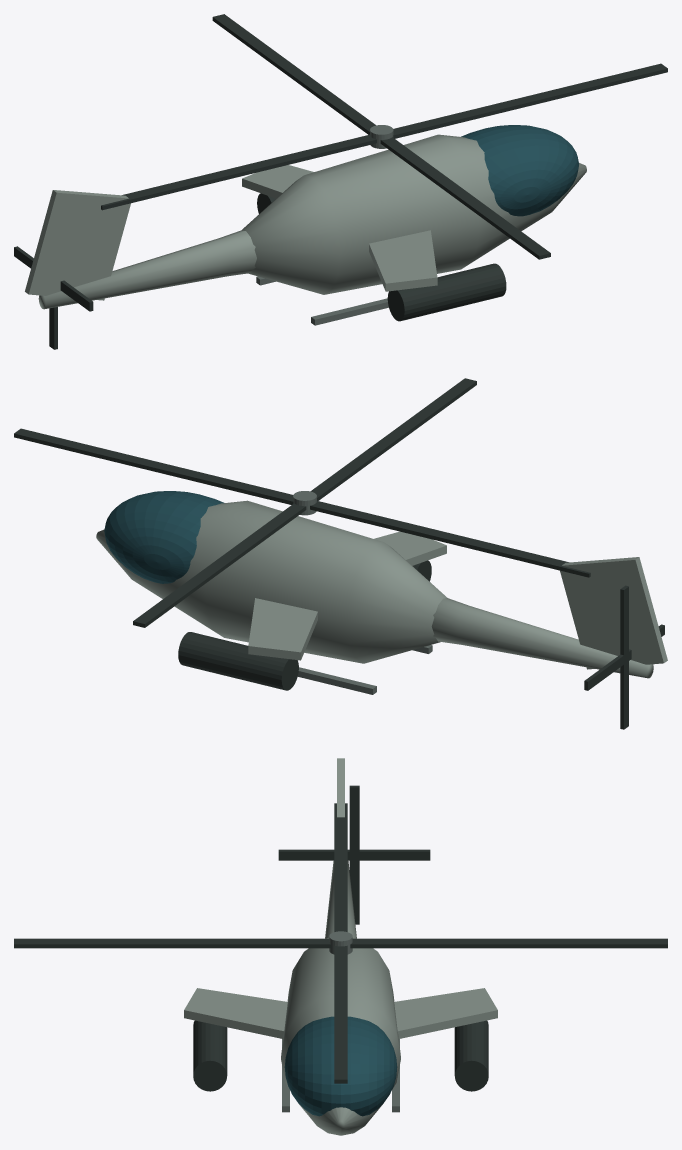
File: gunship.glb
3 views of the same model, one above another, from view 1: azimuth 30°, elevation 25°; view 2: azimuth 150°, elevation 25°; view 3: azimuth 270°, elevation 25° (orthographic).
Parts seen in each view (by area): view 1: GunshipCabin, VerticalFin, ArmoredCockpit, TailBoom, MainRotorBlade, MainRotorBlade.001, StubWing, RocketPod_1, LandingGear_1, TailRotorBlade.001; view 2: GunshipCabin, VerticalFin, ArmoredCockpit, TailBoom, MainRotorBlade, MainRotorBlade.001, StubWing, RocketPod_-1, TailRotorBlade, LandingGear_-1, TailRotorBlade.001; view 3: GunshipCabin, ArmoredCockpit, StubWing, MainRotorBlade.001, MainRotorBlade, RocketPod_-1, RocketPod_1, TailRotorBlade.001, TailRotorBlade, TailBoom.
Part boxes in pixels (left/top/right/bottom): GunshipCabin: left=242, top=134, right=586, bottom=294; VerticalFin: left=25, top=190, right=130, bottom=300; ArmoredCockpit: left=461, top=125, right=578, bottom=216; TailBoom: left=38, top=230, right=256, bottom=309; MainRotorBlade: left=101, top=63, right=667, bottom=210; MainRotorBlade.001: left=212, top=14, right=550, bottom=259; StubWing: left=242, top=165, right=437, bottom=291; RocketPod_1: left=387, top=263, right=506, bottom=321; LandingGear_1: left=311, top=298, right=388, bottom=325; TailRotorBlade.001: left=14, top=246, right=93, bottom=311; GunshipCabin: left=96, top=500, right=447, bottom=663; VerticalFin: left=560, top=557, right=667, bottom=669; ArmoredCockpit: left=104, top=491, right=223, bottom=583; TailBoom: left=431, top=598, right=653, bottom=678; MainRotorBlade: left=14, top=428, right=590, bottom=577; MainRotorBlade.001: left=133, top=378, right=476, bottom=627; StubWing: left=248, top=531, right=446, bottom=660; RocketPod_-1: left=178, top=632, right=298, bottom=690; TailRotorBlade: left=620, top=585, right=628, bottom=729; LandingGear_-1: left=298, top=667, right=376, bottom=694; TailRotorBlade.001: left=584, top=624, right=664, bottom=690; GunshipCabin: left=281, top=938, right=400, bottom=1135; ArmoredCockpit: left=284, top=1016, right=397, bottom=1116; StubWing: left=184, top=988, right=497, bottom=1038; MainRotorBlade.001: left=14, top=938, right=667, bottom=948; MainRotorBlade: left=334, top=803, right=347, bottom=1083; RocketPod_-1: left=454, top=1020, right=488, bottom=1091; RocketPod_1: left=193, top=1020, right=227, bottom=1091; TailRotorBlade.001: left=278, top=849, right=430, bottom=860; TailRotorBlade: left=349, top=785, right=359, bottom=924; TailBoom: left=325, top=861, right=356, bottom=938.
Size of the model in its own units: 28.19 by 7.22 by 25.
